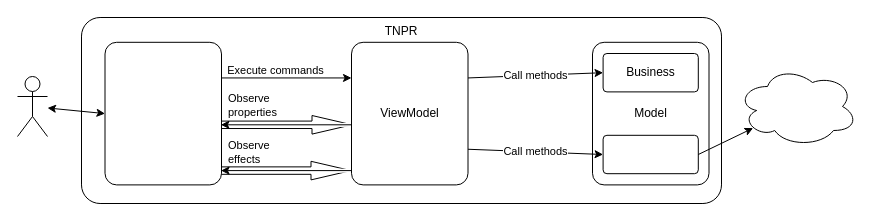
The diagram is 875 pixels wide and 221 high, and some of its shapes have lost their labels. The centre of each missing label's shape, as x and y in pixels:
"Client" belongs at pixel 650 154.
"View" belongs at pixel 163 113.
